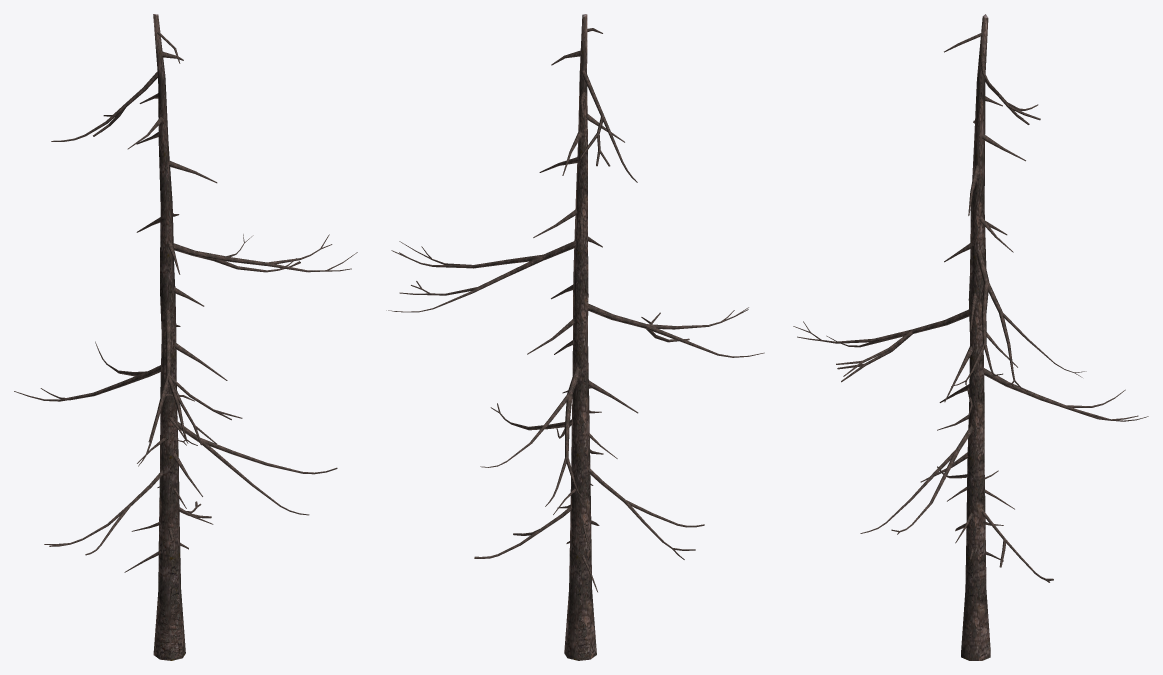
The model's file is dead_conifer_0.glb.
3 renders of one model, left to right at view 1: azimuth 30°, elevation 25°; view 2: azimuth 150°, elevation 25°; view 3: azimuth 270°, elevation 25°, orthographic.
Visible parts, largest first — view 1: Coniferous Dead Tree; view 2: Coniferous Dead Tree; view 3: Coniferous Dead Tree.
Boxes of the visible parts, x1,y1,x2,y2 form: Coniferous Dead Tree: [14, 14, 357, 660]; Coniferous Dead Tree: [386, 14, 764, 660]; Coniferous Dead Tree: [793, 14, 1148, 660].
Bounding box in the file's own units: 7.93 × 16.1 × 8.16.
Materials: 1 (1 with a texture image).
